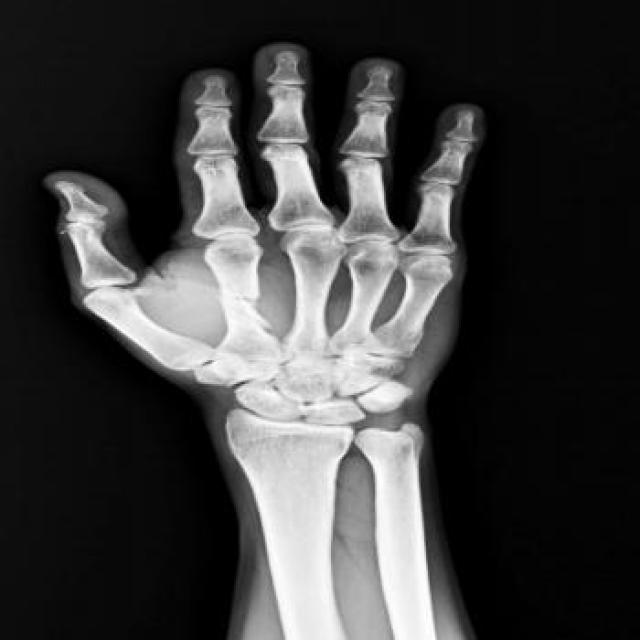Fracture: (207, 282, 270, 306)
